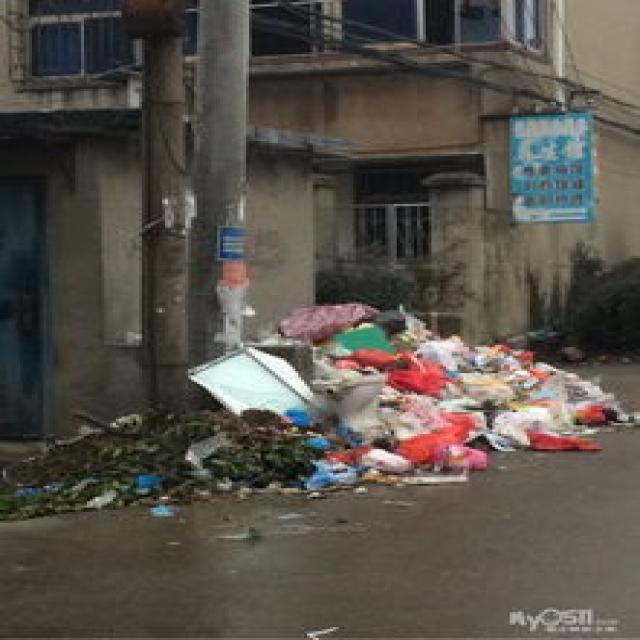garbage: (177, 297, 637, 497)
